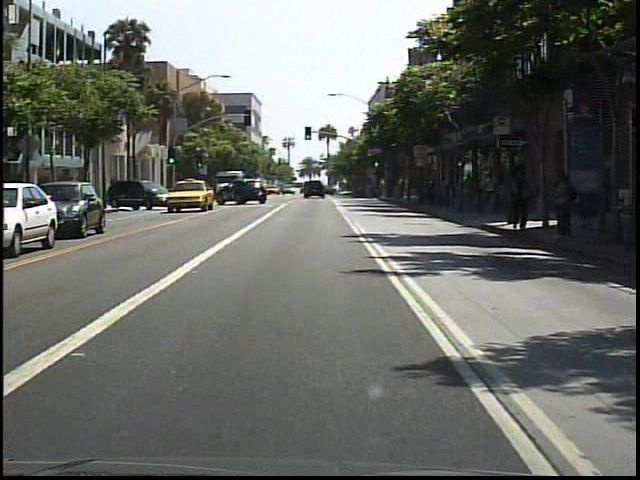person: (504, 161, 535, 237), (546, 167, 577, 242), (479, 167, 497, 209)
